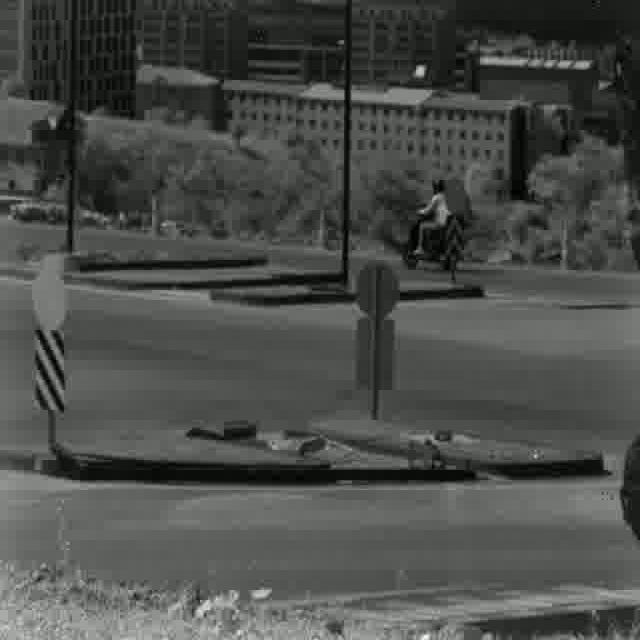Motorcycle: (400, 180, 460, 272)
